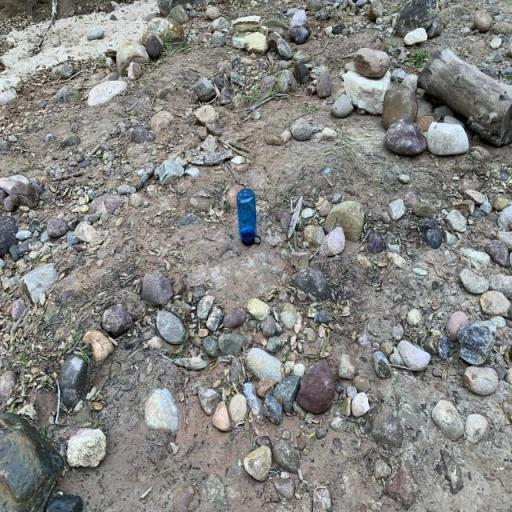bottle: (236, 189, 262, 246)
